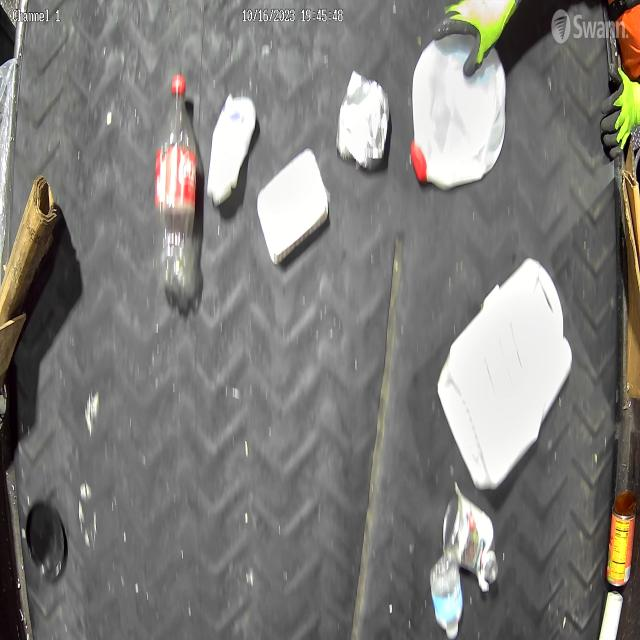can: (334, 68, 391, 173), (442, 494, 498, 580)
milk_jug: (436, 255, 573, 491), (411, 33, 507, 193)
plastic_bottle: (155, 71, 198, 302), (429, 548, 462, 640)
